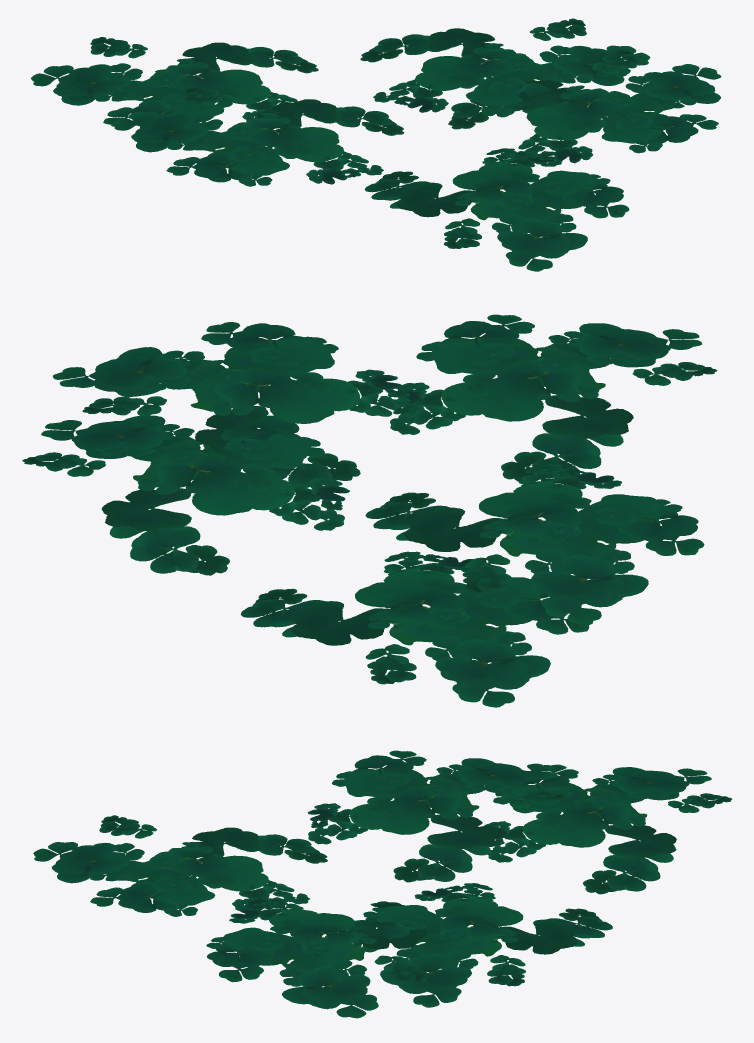
The picture shows the model from 3 angles, top to bottom: view 1: azimuth 30°, elevation 25°; view 2: azimuth 150°, elevation 25°; view 3: azimuth 270°, elevation 25°; orthographic projection. The views are drawn at different scales.
Parts seen in each view (by area): view 1: SM_BM_Woodlands_Sorrel_01_D_LOD0; view 2: SM_BM_Woodlands_Sorrel_01_D_LOD0; view 3: SM_BM_Woodlands_Sorrel_01_D_LOD0.
Boxes of the visible parts, x1,y1,x2,y2 form: SM_BM_Woodlands_Sorrel_01_D_LOD0: [31, 18, 721, 271]; SM_BM_Woodlands_Sorrel_01_D_LOD0: [22, 314, 717, 707]; SM_BM_Woodlands_Sorrel_01_D_LOD0: [33, 750, 732, 1018].
Size of the model in its own units: 0.782 by 0.0452 by 0.8798.
Materials: 1 (1 with a texture image).
